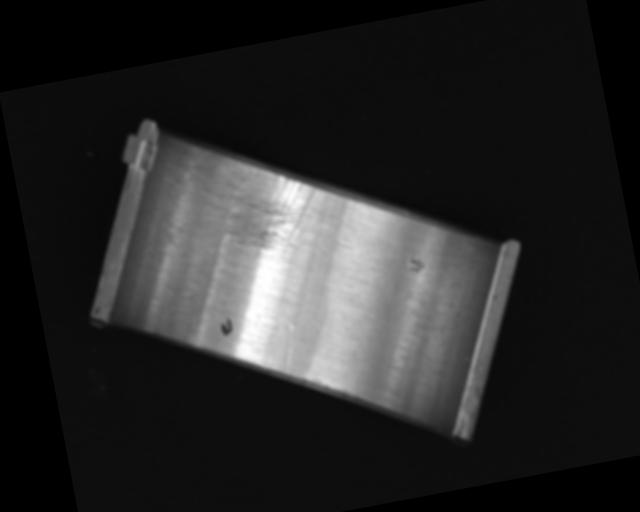blot: (218, 316, 233, 338)
bruise: (405, 251, 425, 274)
nick: (279, 322, 301, 371)
scratch: (194, 127, 325, 266)
